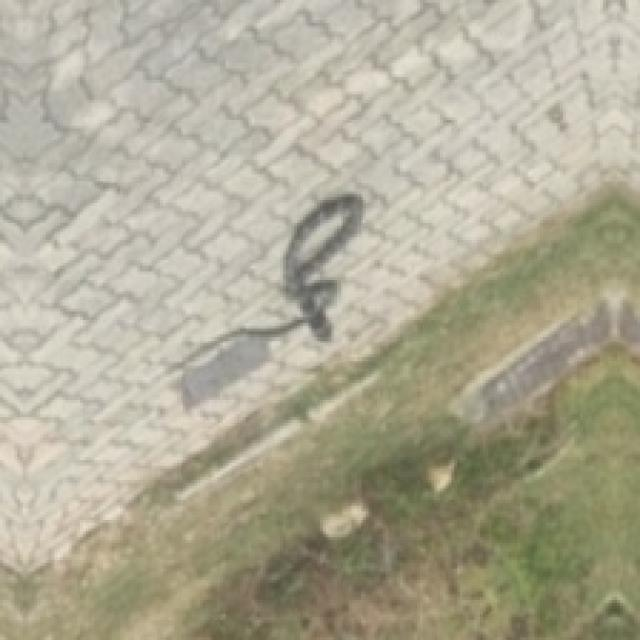king cobra: (177, 194, 360, 406), (449, 294, 637, 429)
